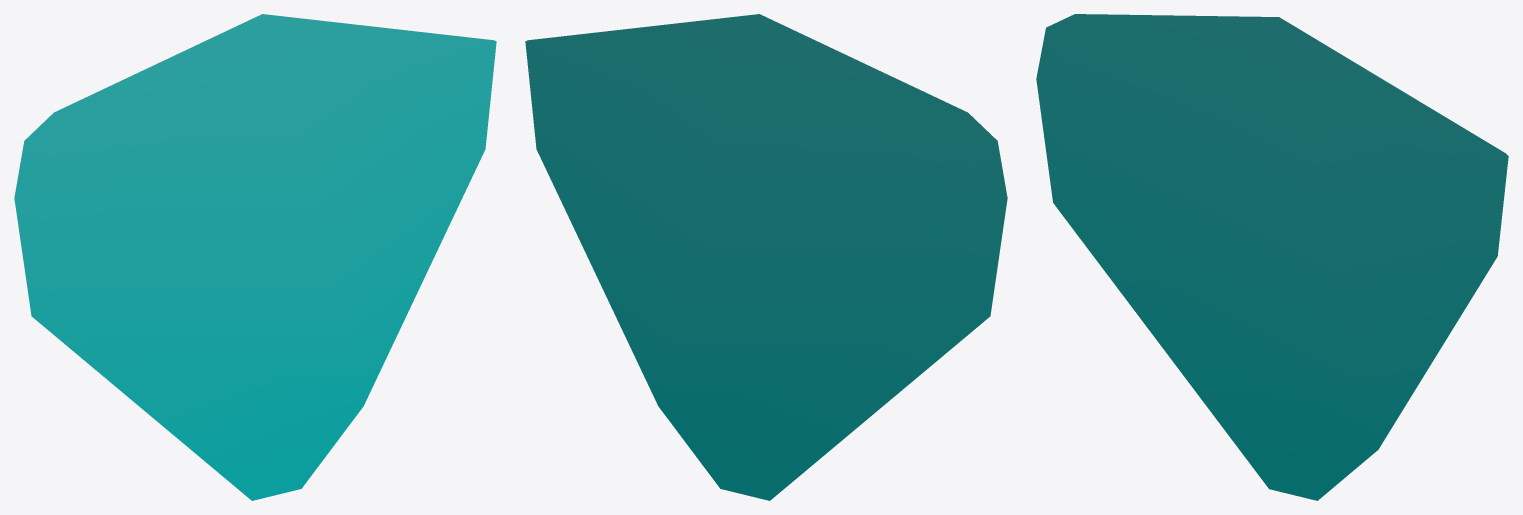
The model's file is Elderberry_wfzobb2ia_Mid_wfzobb2ia_VarE_LOD3.fbx.
3 views of the same model, side by side, from view 1: azimuth 30°, elevation 25°; view 2: azimuth 150°, elevation 25°; view 3: azimuth 330°, elevation 25° (orthographic). The views are drawn at different scales.
Parts seen in each view (by area): view 1: _m6n0_VarE_LOD6; view 2: _m6n0_VarE_LOD6; view 3: _m6n0_VarE_LOD6.
Boxes of the visible parts, box(x1,y1,x2,y2) form: _m6n0_VarE_LOD6: box(14, 14, 496, 500); _m6n0_VarE_LOD6: box(525, 14, 1007, 500); _m6n0_VarE_LOD6: box(1036, 14, 1508, 500).
Bounding box in the file's own units: 72.51 × 69.6 × 0.
